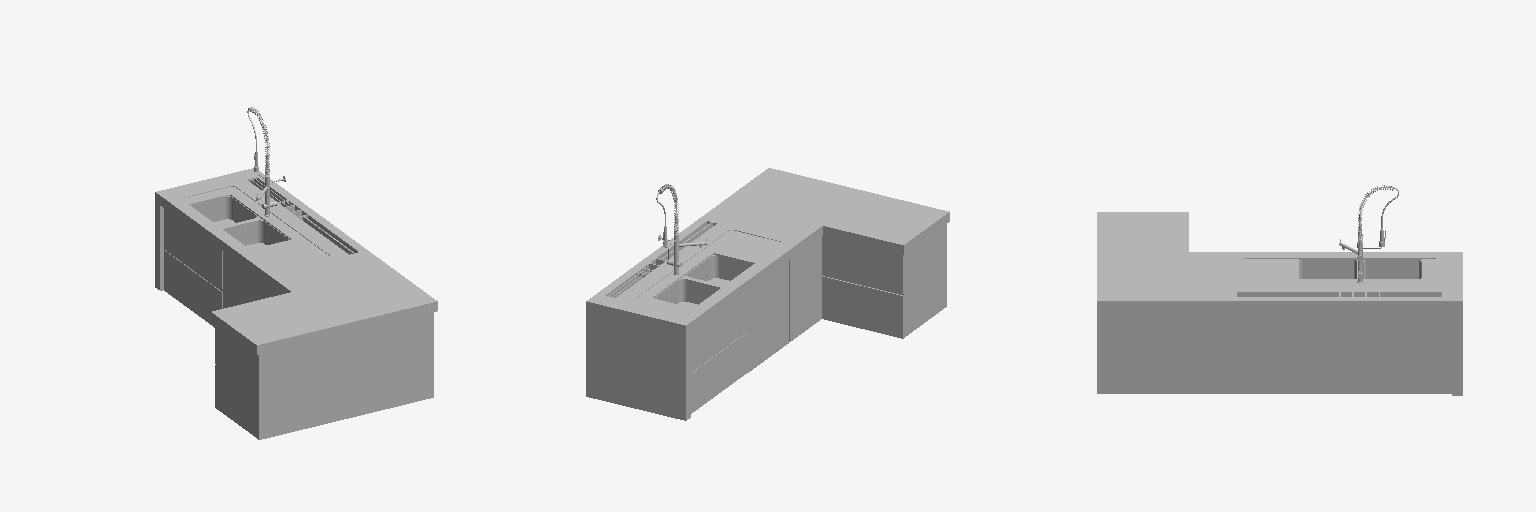
The model's file is kitchen-sink.obj.
The picture shows the model from 3 angles: view 1: azimuth 30°, elevation 25°; view 2: azimuth 150°, elevation 25°; view 3: azimuth 270°, elevation 25°; orthographic projection.
Parts seen in each view (by area): view 1: Group_001, Group_004, Group_006, Component_35_001, Group_008; view 2: Group_004, Group_001, Group_006, Component_35_001, Group_008; view 3: Group_001, Group_004, Group_006, Group_008.
Part boxes in pixels (bbox=[...]): Group_001: bbox=[164, 209, 433, 439]; Group_004: bbox=[155, 168, 437, 354]; Group_006: bbox=[173, 182, 337, 272]; Component_35_001: bbox=[190, 196, 289, 249]; Group_008: bbox=[247, 107, 285, 216]; Group_004: bbox=[586, 168, 949, 420]; Group_001: bbox=[691, 224, 946, 413]; Group_006: bbox=[626, 226, 790, 316]; Component_35_001: bbox=[654, 255, 752, 307]; Group_008: bbox=[656, 184, 706, 274]; Group_001: bbox=[1097, 311, 1451, 393]; Group_004: bbox=[1097, 212, 1462, 395]; Group_006: bbox=[1232, 255, 1447, 287]; Group_008: bbox=[1339, 185, 1398, 283].
Bounding box in the file's own units: 56.24 × 57.03 × 98.43.